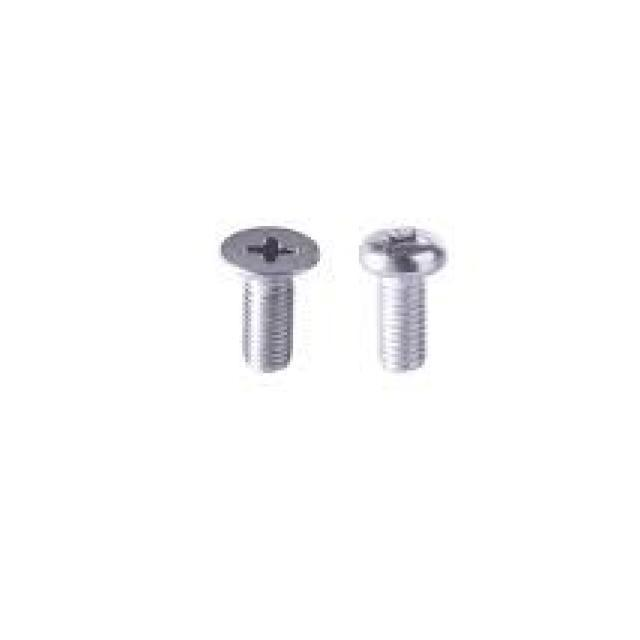Screw: (218, 226, 323, 370), (356, 226, 446, 373)
